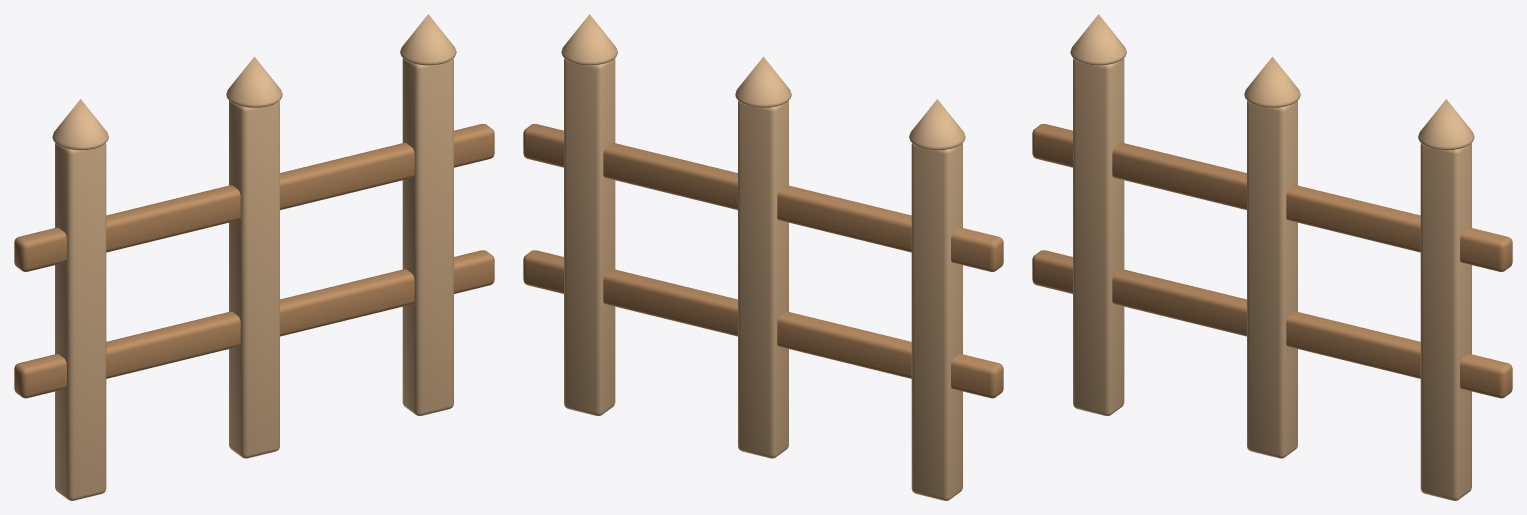
Rendered from fence.glb.
The picture shows the model from 3 angles, left to right: view 1: azimuth 30°, elevation 25°; view 2: azimuth 150°, elevation 25°; view 3: azimuth 330°, elevation 25°; orthographic projection.
Parts seen in each view (by area): view 1: fence; view 2: fence; view 3: fence.
Part boxes in pixels (bbox=[...]): fence: bbox=[14, 14, 494, 500]; fence: bbox=[523, 14, 1003, 500]; fence: bbox=[1032, 14, 1512, 500].
Size of the model in its own units: 0.98 by 0.78 by 0.1016.
